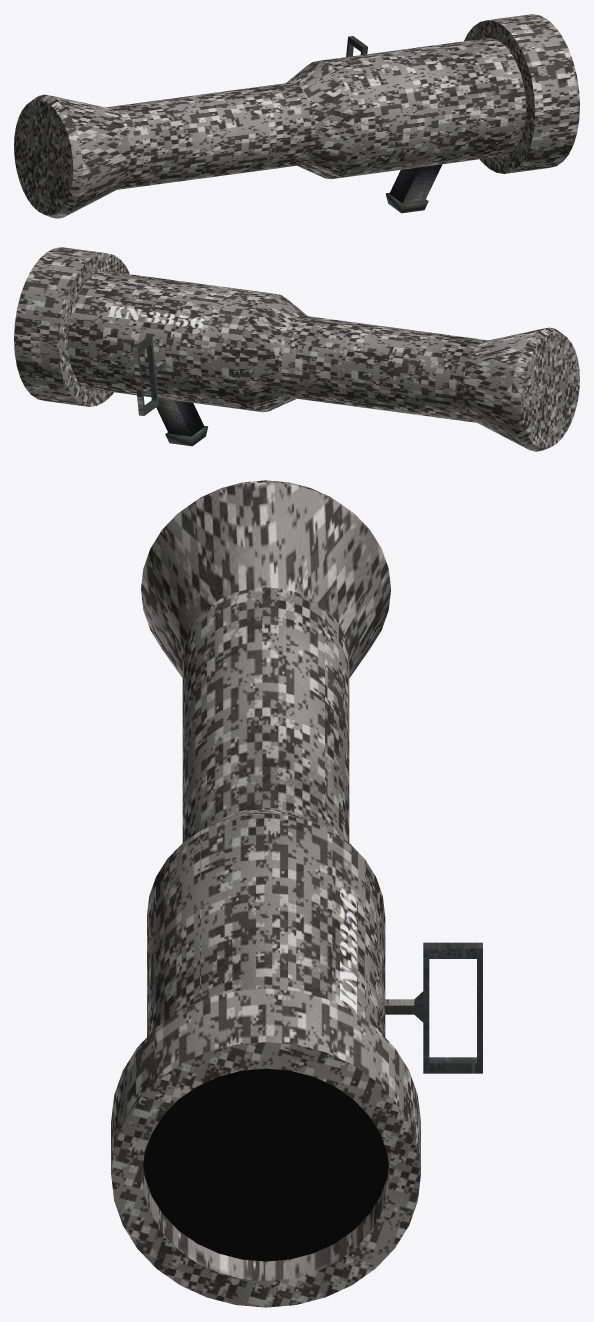
Rendered from launcher_000015.obj.
3 renders of one model, top to bottom at view 1: azimuth 30°, elevation 25°; view 2: azimuth 150°, elevation 25°; view 3: azimuth 270°, elevation 25°, orthographic. The views are drawn at different scales.
Visible parts, largest first — view 1: Cylinder; view 2: Cylinder; view 3: Cylinder.
Boxes of the visible parts, x1,y1,x2,y2 form: Cylinder: (14,14,579,218); Cylinder: (14,247,579,451); Cylinder: (111,480,482,1307).
Size of the model in its own units: 8.88 by 3.24 by 2.81.
1 material, 1 textured.
